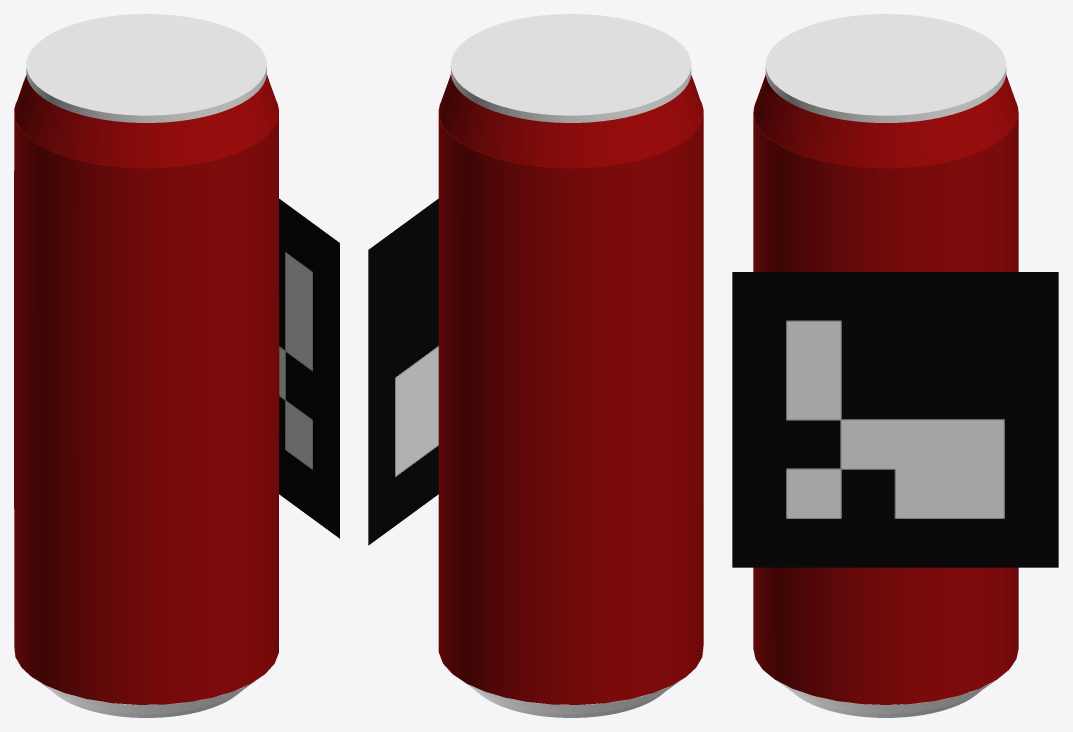
File: can_id2.dae
The picture shows the model from 3 angles, left to right: view 1: azimuth 30°, elevation 25°; view 2: azimuth 150°, elevation 25°; view 3: azimuth 270°, elevation 25°; orthographic projection.
Parts seen in each view (by area): view 1: Body1, Body1.002, 平面, Body1.001; view 2: Body1, Body1.002, 平面, Body1.001; view 3: 平面, Body1, Body1.002, Body1.001.
Boxes of the visible parts, x1=… form: Body1: x1=14, y1=75, x2=279, y2=704; Body1.002: x1=26, y1=14, x2=266, y2=122; 平面: x1=279, y1=198, x2=339, y2=538; Body1.001: x1=14, y1=648, x2=278, y2=717; Body1: x1=438, y1=74, x2=703, y2=704; Body1.002: x1=450, y1=14, x2=691, y2=122; 平面: x1=368, y1=199, x2=438, y2=545; Body1.001: x1=439, y1=646, x2=703, y2=717; 平面: x1=732, y1=272, x2=1058, y2=567; Body1: x1=753, y1=74, x2=1018, y2=704; Body1.002: x1=765, y1=14, x2=1006, y2=122; Body1.001: x1=753, y1=651, x2=1018, y2=717.
Size of the model in its own units: 0.0654 by 0.08 by 0.165.
